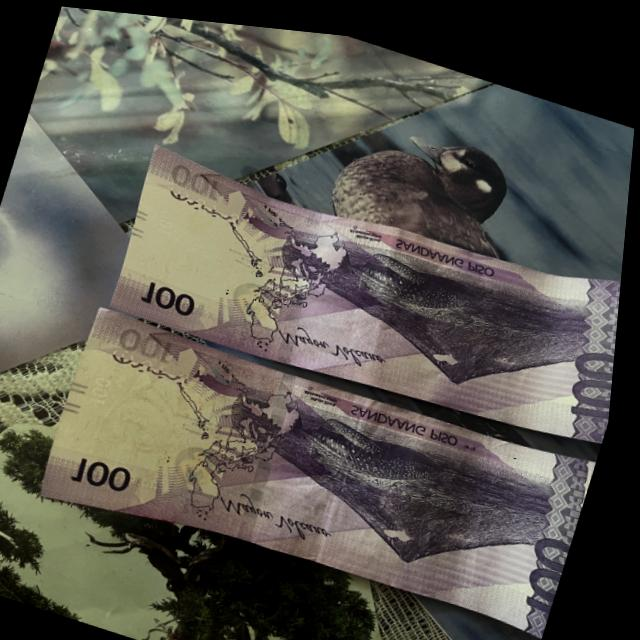100_whale: (238, 369, 471, 503), (268, 207, 487, 319)
100_whale_watermark: (188, 344, 278, 410), (246, 191, 316, 246)
value_watermark: (87, 358, 133, 412)
watermark: (79, 341, 249, 504)
